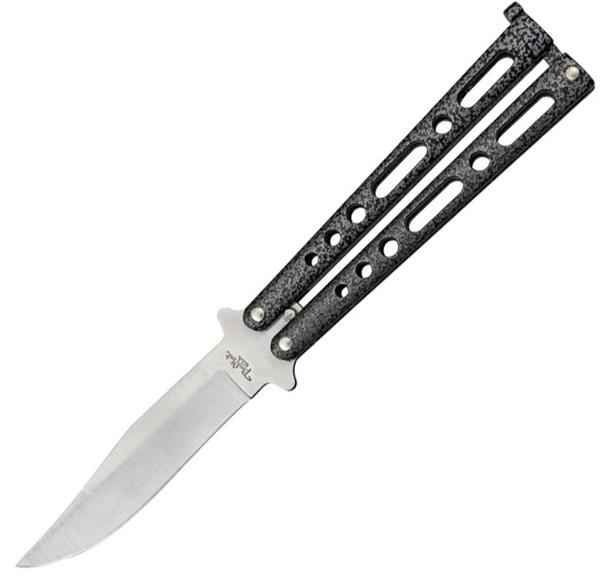knife: (15, 6, 600, 583)
